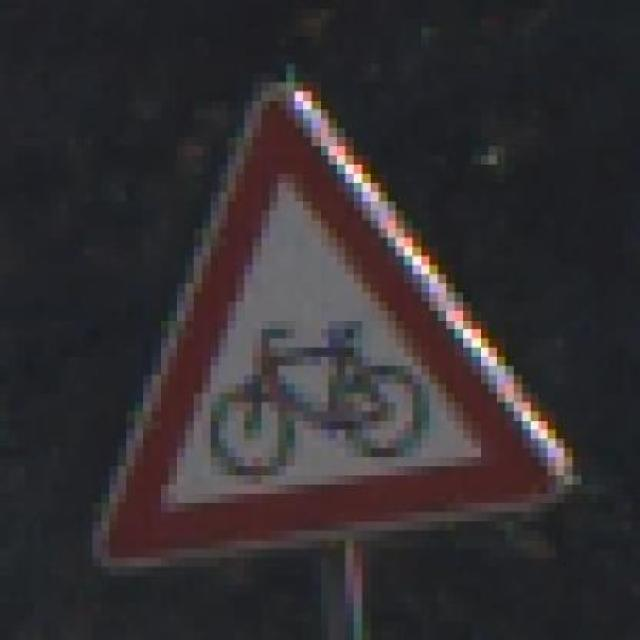CYCLE ROUTE AHEAD WARNING: (76, 73, 590, 576)
